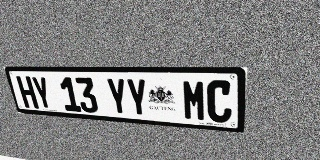1: (58, 77, 82, 112)
3: (75, 77, 99, 113)
C: (207, 80, 233, 123)
H: (16, 76, 39, 109)
M: (182, 79, 206, 121)
Y: (125, 78, 149, 117), (105, 78, 129, 116), (30, 76, 54, 110)
